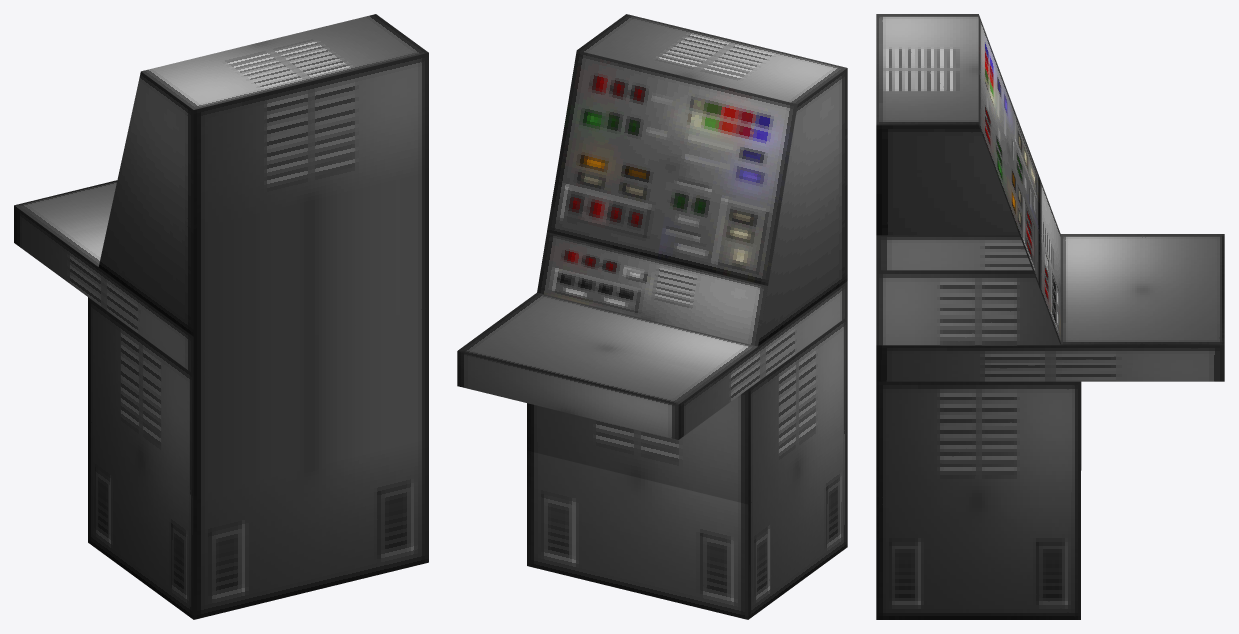
Rendered from primary_080.glb.
The picture shows the model from 3 angles, left to right: view 1: azimuth 30°, elevation 25°; view 2: azimuth 150°, elevation 25°; view 3: azimuth 270°, elevation 25°; orthographic projection. The views are drawn at different scales.
Parts seen in each view (by area): view 1: Object; view 2: Object; view 3: Object.
Boxes of the visible parts, box(x1,y1,x2,y2) form: Object: box(14, 14, 428, 619); Object: box(457, 14, 847, 619); Object: box(876, 14, 1224, 619).
Size of the model in its own units: 0.8592 by 1.78 by 1.14.
21 materials, 21 textured.
